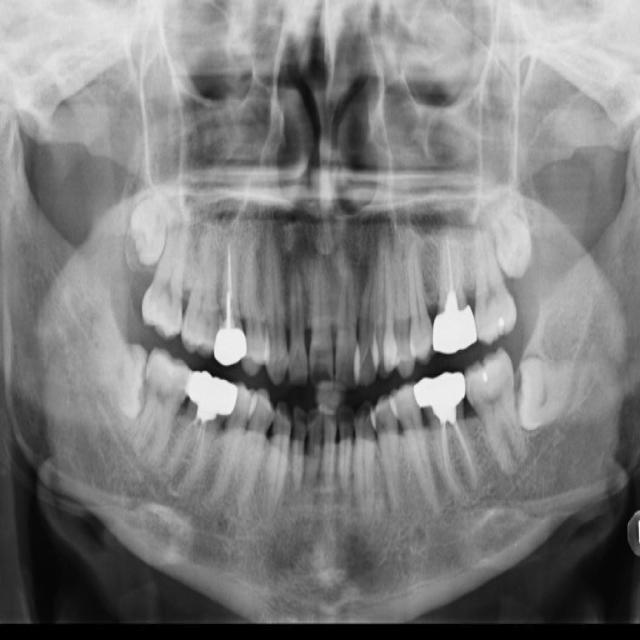Crown: (414, 370, 465, 422), (189, 370, 237, 419), (432, 307, 477, 354), (214, 324, 247, 367)
Root Canal Treatment: (452, 424, 474, 482), (443, 424, 460, 494), (176, 419, 196, 462), (191, 428, 206, 481), (187, 422, 206, 458), (226, 247, 234, 326), (448, 238, 452, 287)
impacted tooth: (477, 179, 534, 275), (518, 356, 591, 430), (83, 342, 149, 418), (130, 175, 180, 263)
